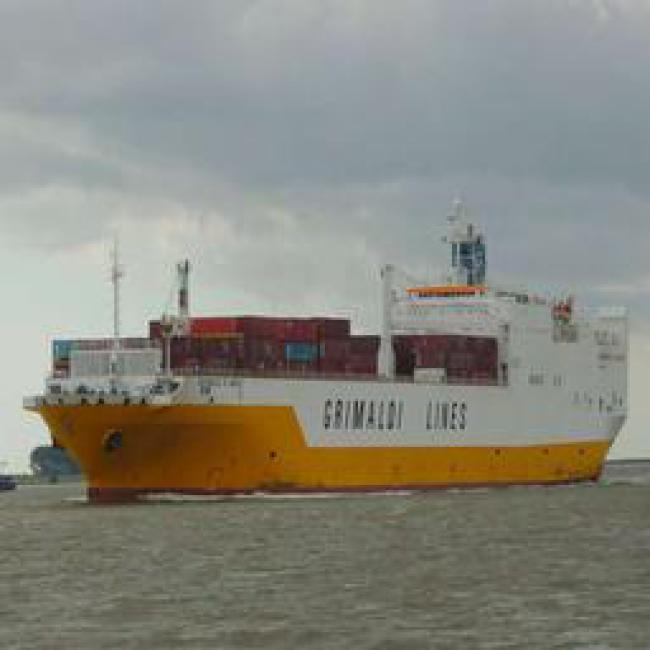Ship: (40, 329, 638, 487)
